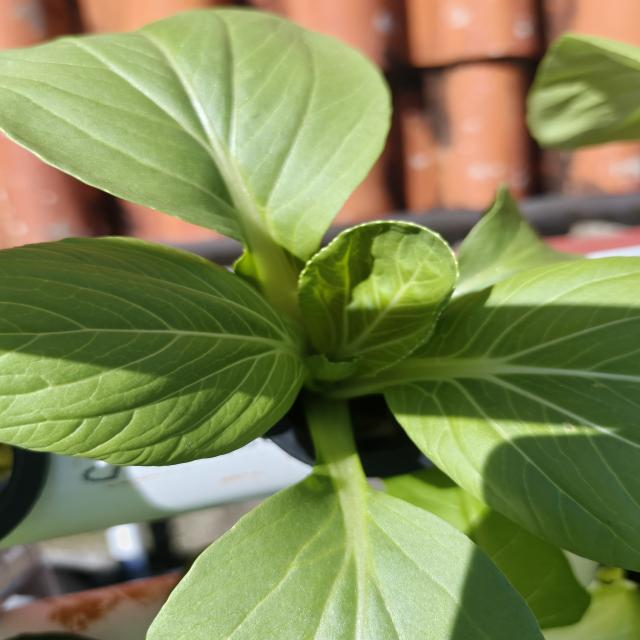daun-pakcoy: (0, 8, 392, 261), (388, 257, 640, 570), (0, 237, 306, 465), (148, 466, 544, 640), (298, 221, 458, 397), (452, 185, 582, 298)
